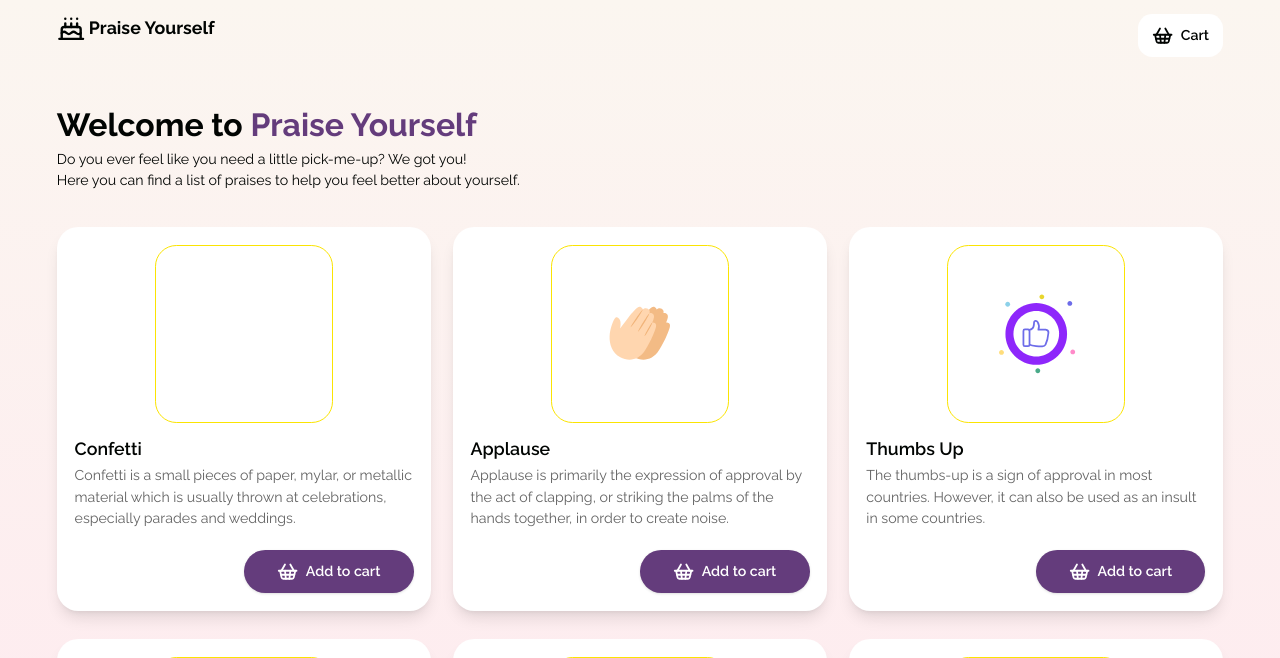
Home › Should add item to cart when the add to cart button is clicked
The width and height of the screenshot is (1280, 658).
Click the 1st button "Add to cart".
click(329, 572)  # box [244, 550, 414, 593]
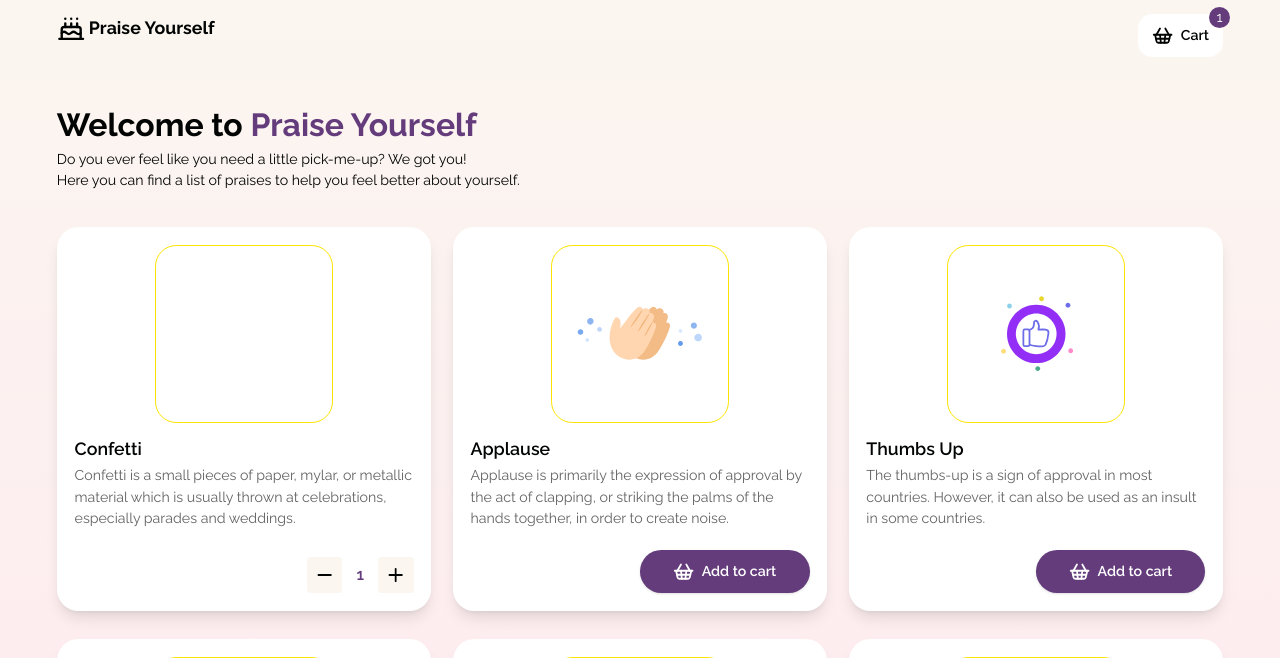
Expected: the text with test id "amount-in-cart" reads "1", [356, 563, 364, 588]
Expected: the text with test id "cart-amount-badge" reads "1", [1209, 7, 1230, 28]
